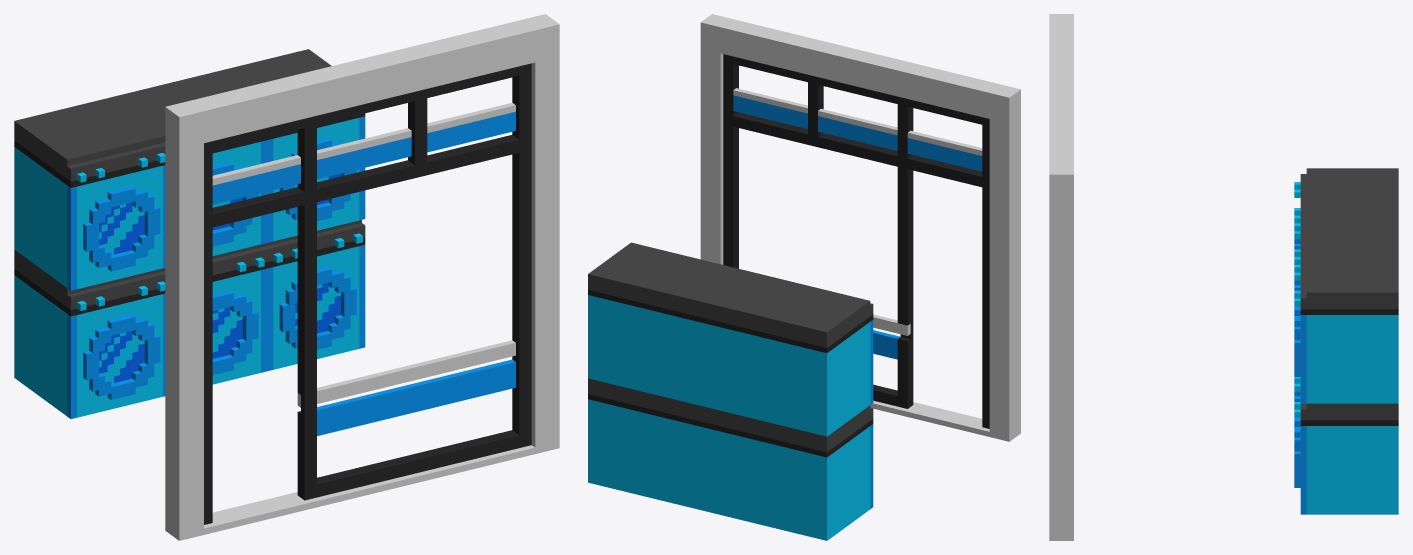
The model's file is laundry.glb.
3 views of the same model, side by side, from view 1: azimuth 30°, elevation 25°; view 2: azimuth 150°, elevation 25°; view 3: azimuth 270°, elevation 25° (orthographic). The views are drawn at different scales.
Visible parts, largest first — view 1: ObjObject; view 2: ObjObject; view 3: ObjObject.
Boxes of the visible parts, bbox=[...] form: ObjObject: bbox=[14, 14, 559, 540]; ObjObject: bbox=[588, 14, 1020, 540]; ObjObject: bbox=[1049, 14, 1398, 540].
Bounding box in the file's own units: 6.2 × 6.6 × 5.7.
Materials: 1 (1 with a texture image).
